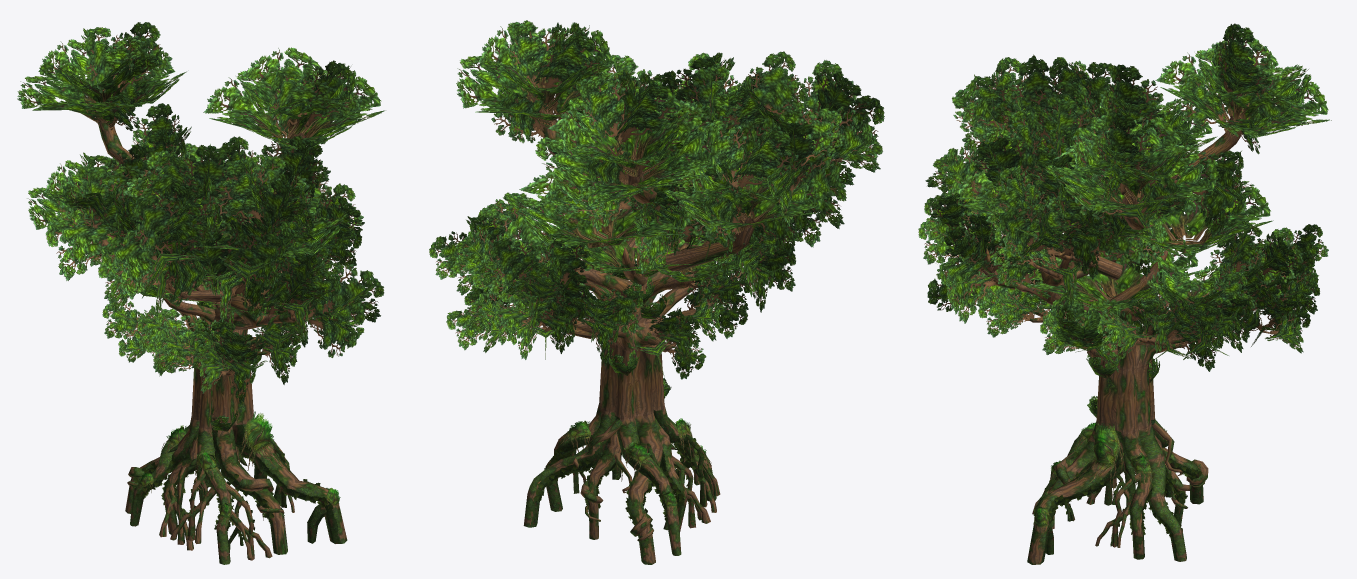
Rendered from nordrassil.fbx.
The picture shows the model from 3 angles, left to right: view 1: azimuth 30°, elevation 25°; view 2: azimuth 150°, elevation 25°; view 3: azimuth 270°, elevation 25°; orthographic projection. The views are drawn at different scales.
Parts seen in each view (by area): view 1: Geoset3, Geoset5, Geoset1, Geoset0, Geoset6, Geoset2, Geoset4, Geoset7; view 2: Geoset3, Geoset5, Geoset0, Geoset1, Geoset6, Geoset2, Geoset7, Geoset4; view 3: Geoset3, Geoset5, Geoset0, Geoset1, Geoset6, Geoset4, Geoset2, Geoset7.
Boxes of the visible parts, <box> form: Geoset3: <box>45,22,384,404</box>; Geoset5: <box>17,35,385,431</box>; Geoset1: <box>125,415,347,564</box>; Geoset0: <box>91,118,306,430</box>; Geoset6: <box>129,424,341,560</box>; Geoset2: <box>127,441,294,560</box>; Geoset4: <box>136,411,340,529</box>; Geoset7: <box>132,448,333,541</box>; Geoset3: <box>429,20,884,379</box>; Geoset5: <box>456,23,823,398</box>; Geoset0: <box>507,109,754,493</box>; Geoset1: <box>523,403,716,564</box>; Geoset6: <box>530,409,712,562</box>; Geoset2: <box>557,431,720,541</box>; Geoset7: <box>533,438,711,536</box>; Geoset4: <box>558,418,711,518</box>; Geoset3: <box>918,23,1328,372</box>; Geoset5: <box>955,38,1331,417</box>; Geoset0: <box>962,115,1274,476</box>; Geoset1: <box>1027,418,1203,564</box>; Geoset6: <box>1041,419,1202,563</box>; Geoset4: <box>1034,421,1168,536</box>; Geoset2: <box>1032,435,1208,547</box>; Geoset7: <box>1033,448,1202,537</box>.
Size of the model in its own units: 91120 by 120677 by 97487.
